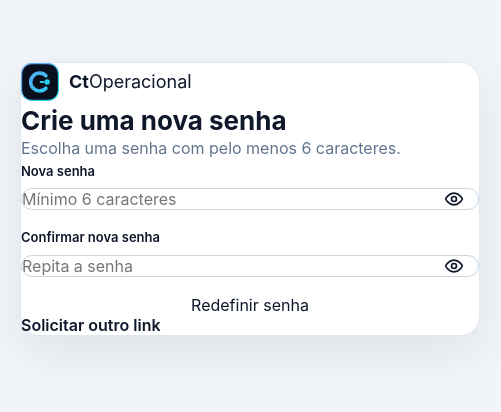
recuperação de senha › mostra erro de token expirado
In the password field labelled "Nova senha": coordinates (250, 199) [21,188,479,210], type "nova123"
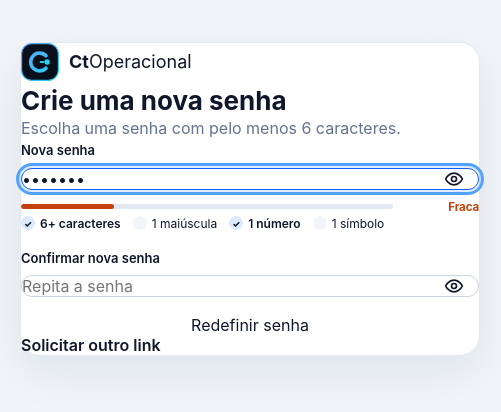
In the password field labelled "Confirmar nova senha": coordinates (250, 286) [21,276,479,298], type "nova123"
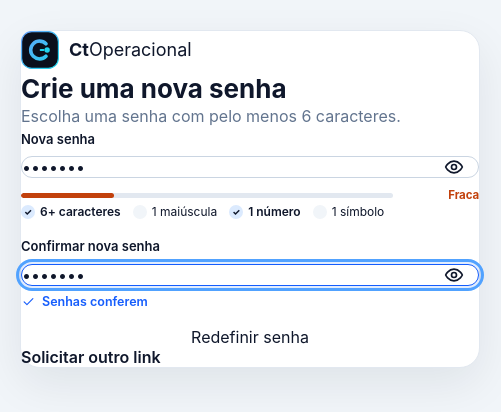
Click the button "Redefinir senha": coordinates (250, 337) [21,327,479,347]
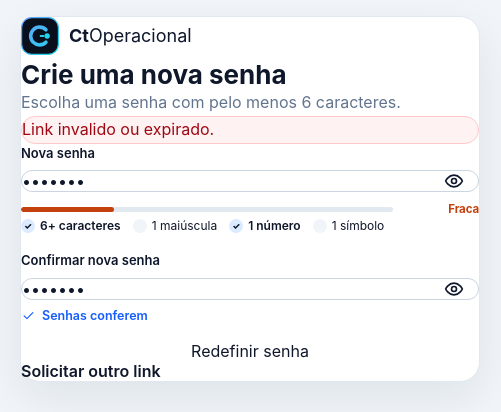
Expected: the message shows "expirado", [22,119,214,139]
